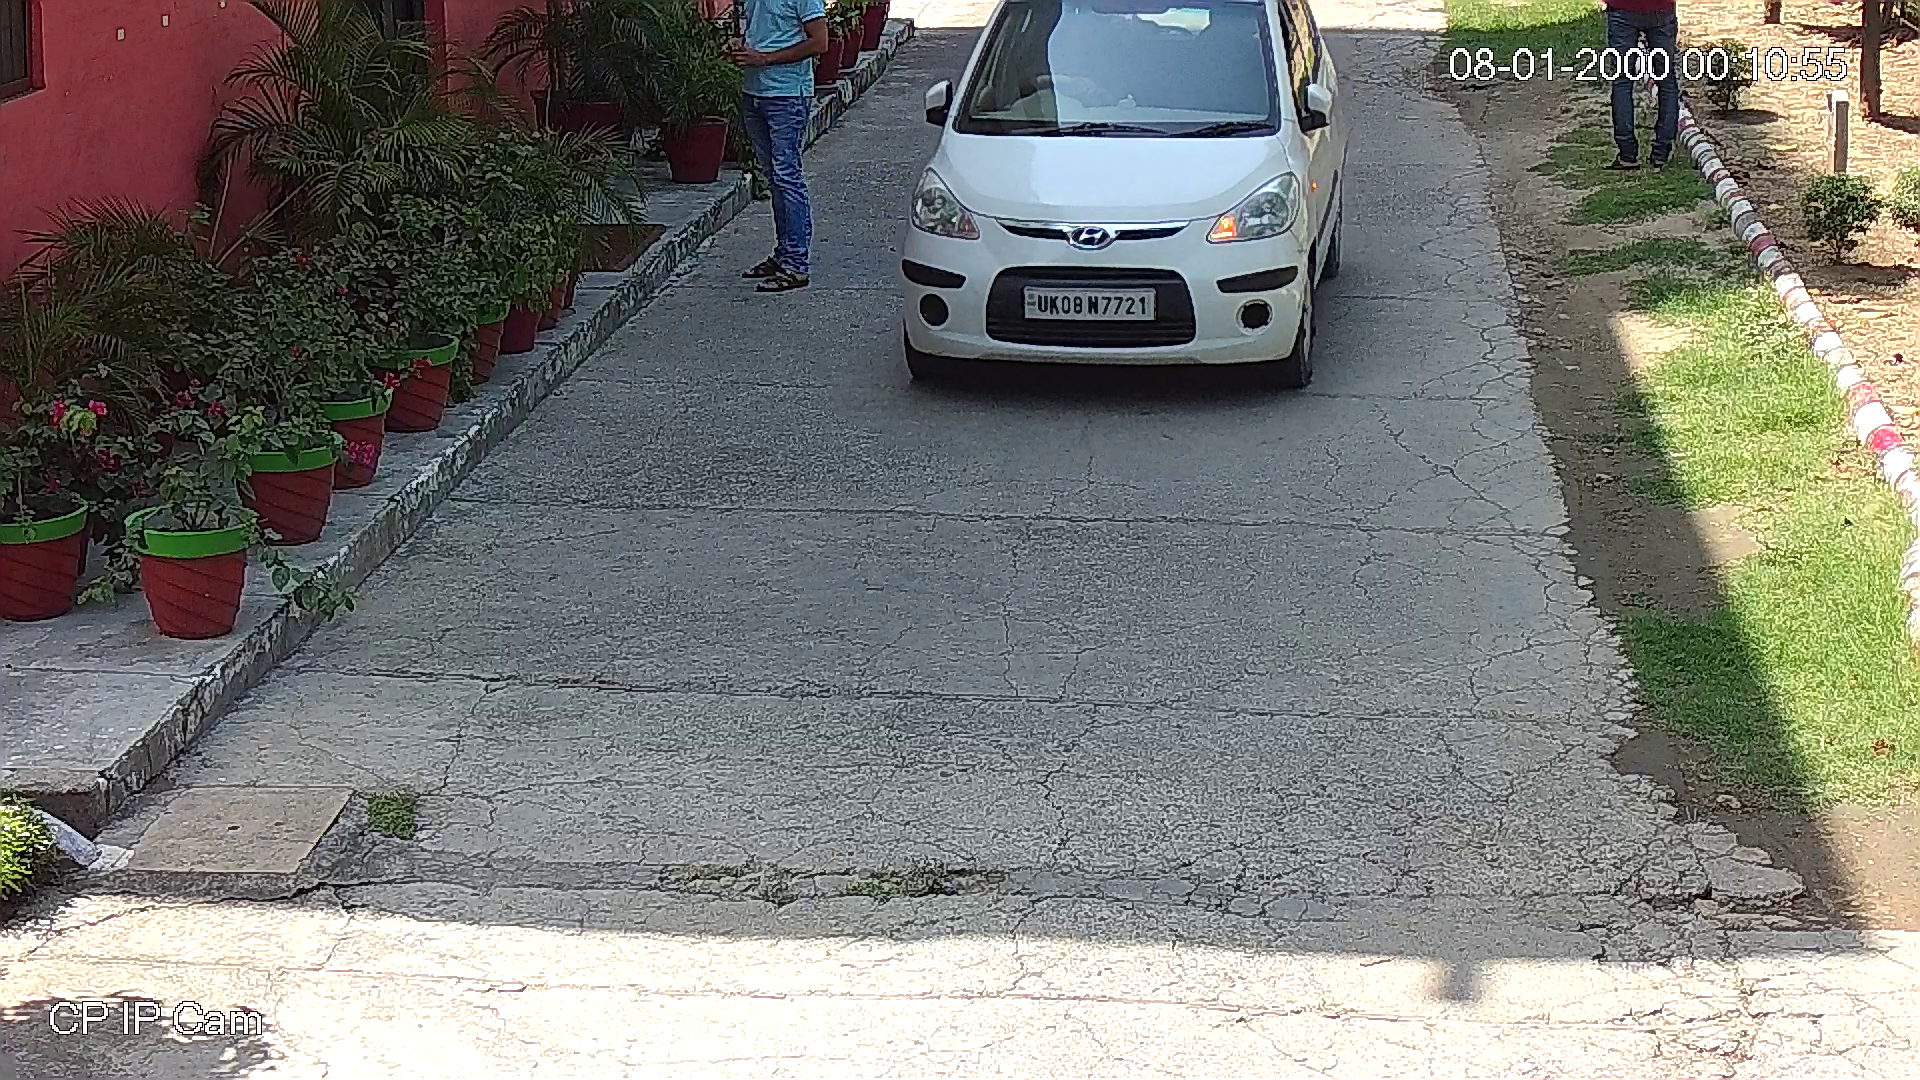plate: (1019, 281, 1159, 323)
